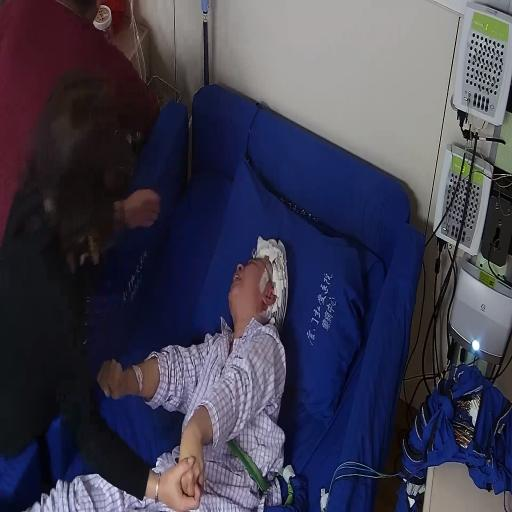Seizure: (230, 240, 278, 326)
